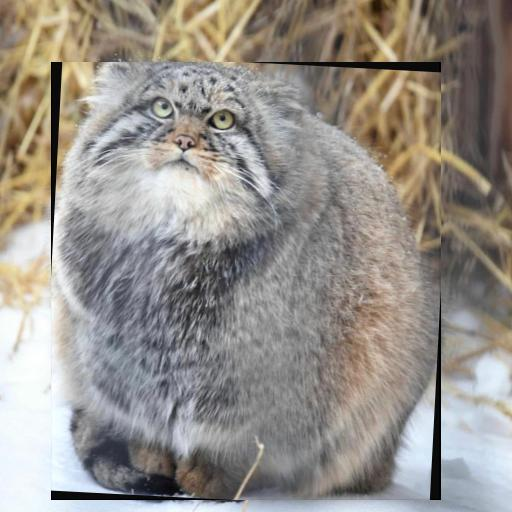manul: (53, 62, 439, 499)
